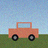vehicle: (9, 22, 38, 41)
